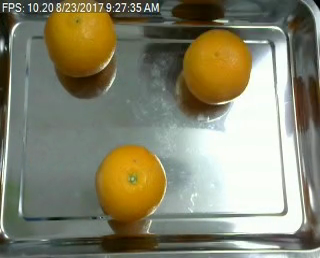Orange: (95, 143, 166, 222), (45, 1, 117, 77), (182, 28, 253, 105)
